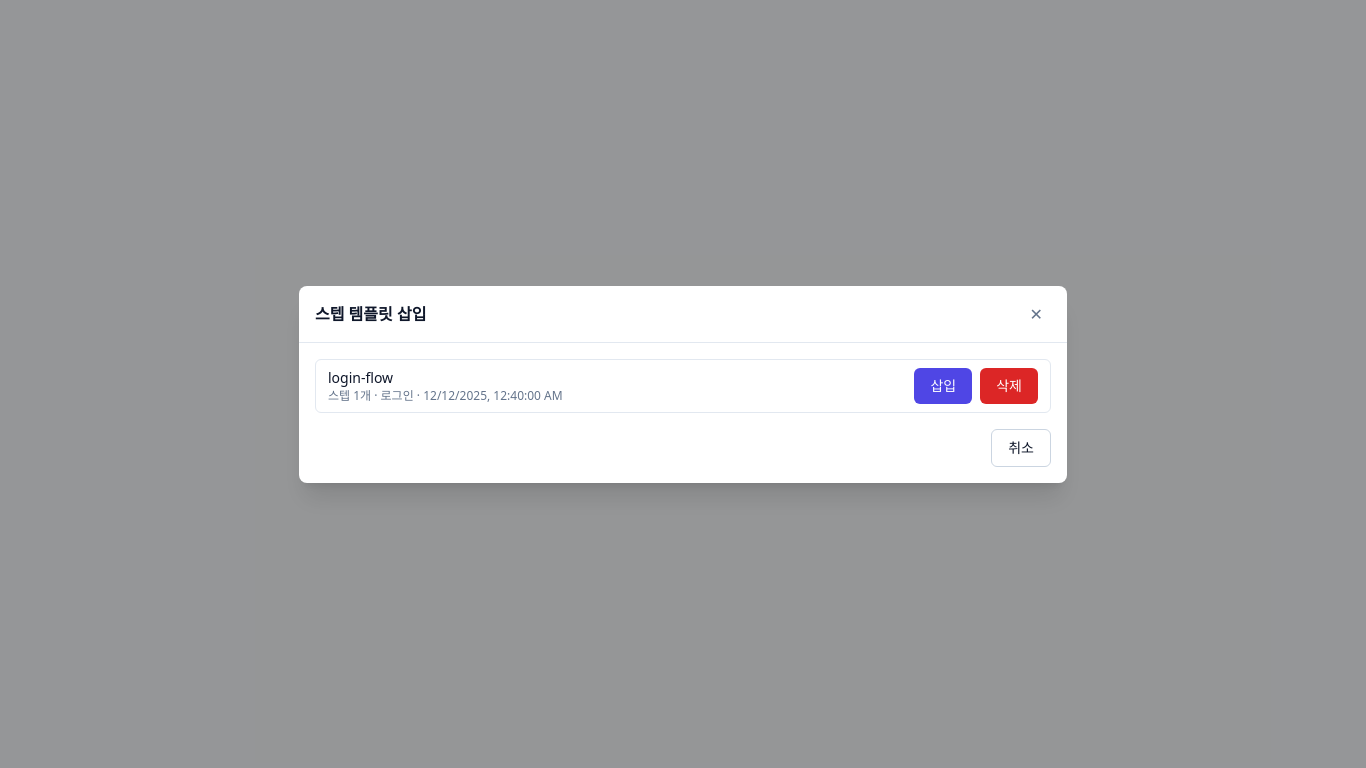
InsertTemplateModal › 삭제된 템플릿 삽입(GET 404)은 에러 표시 + 목록 갱신 + 미삽입 (spec §6)
What coordinates should you click on to do the following:
click the button "삽입"
I would click on:
 (943, 386)
Its box is [914, 368, 972, 404].
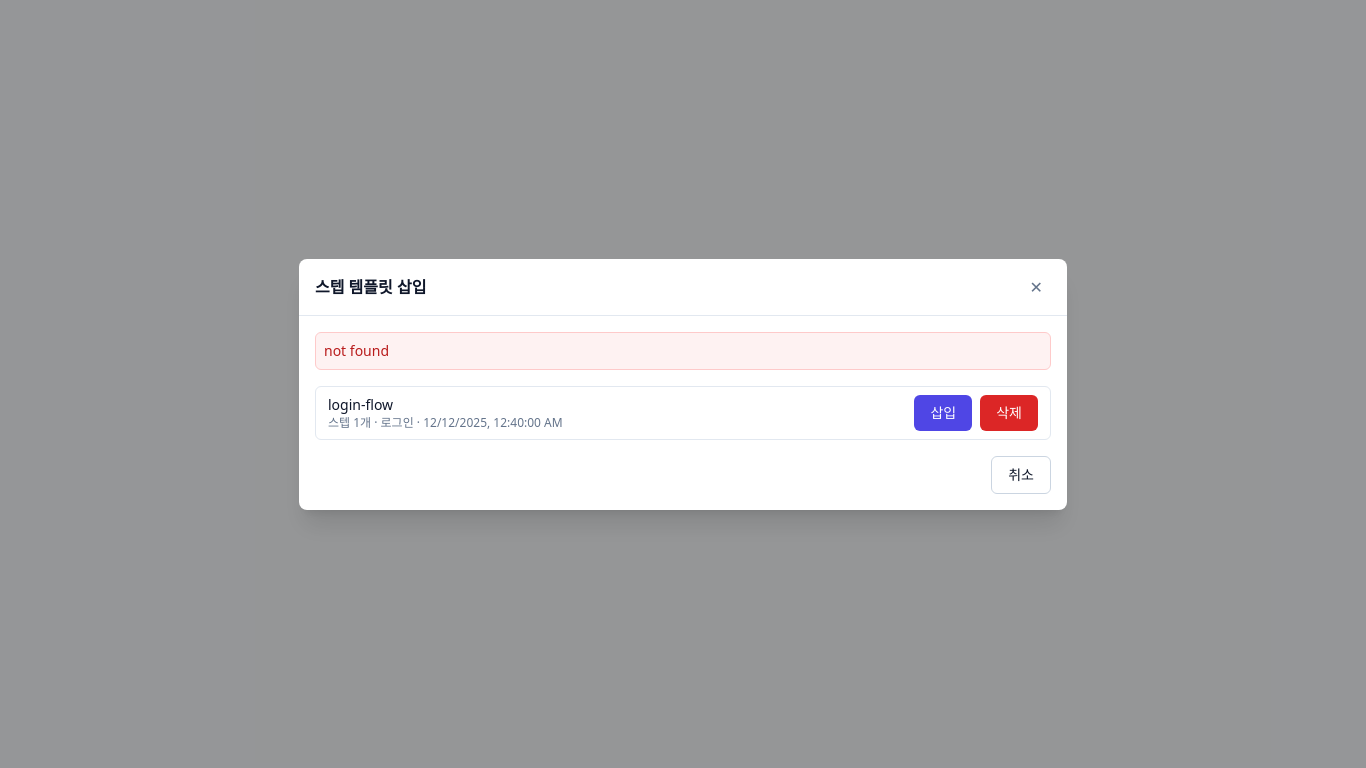
Expected: the text "not found" is shown, [315, 332, 1051, 370]
